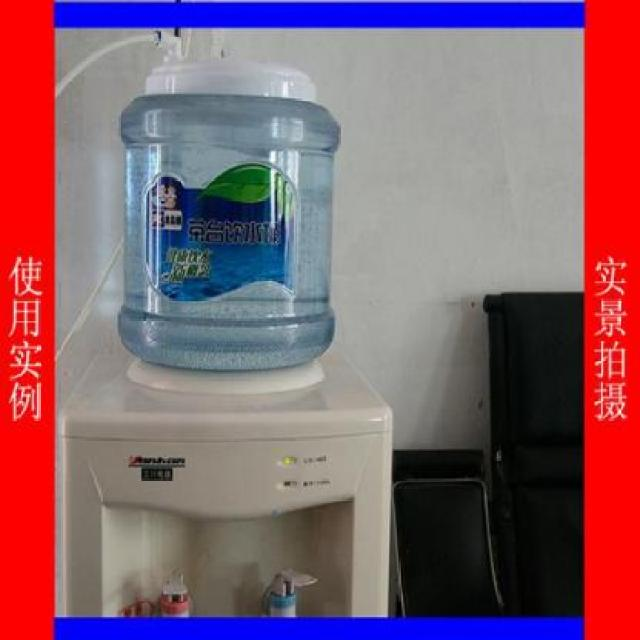coolerbottle: (112, 88, 344, 378)
